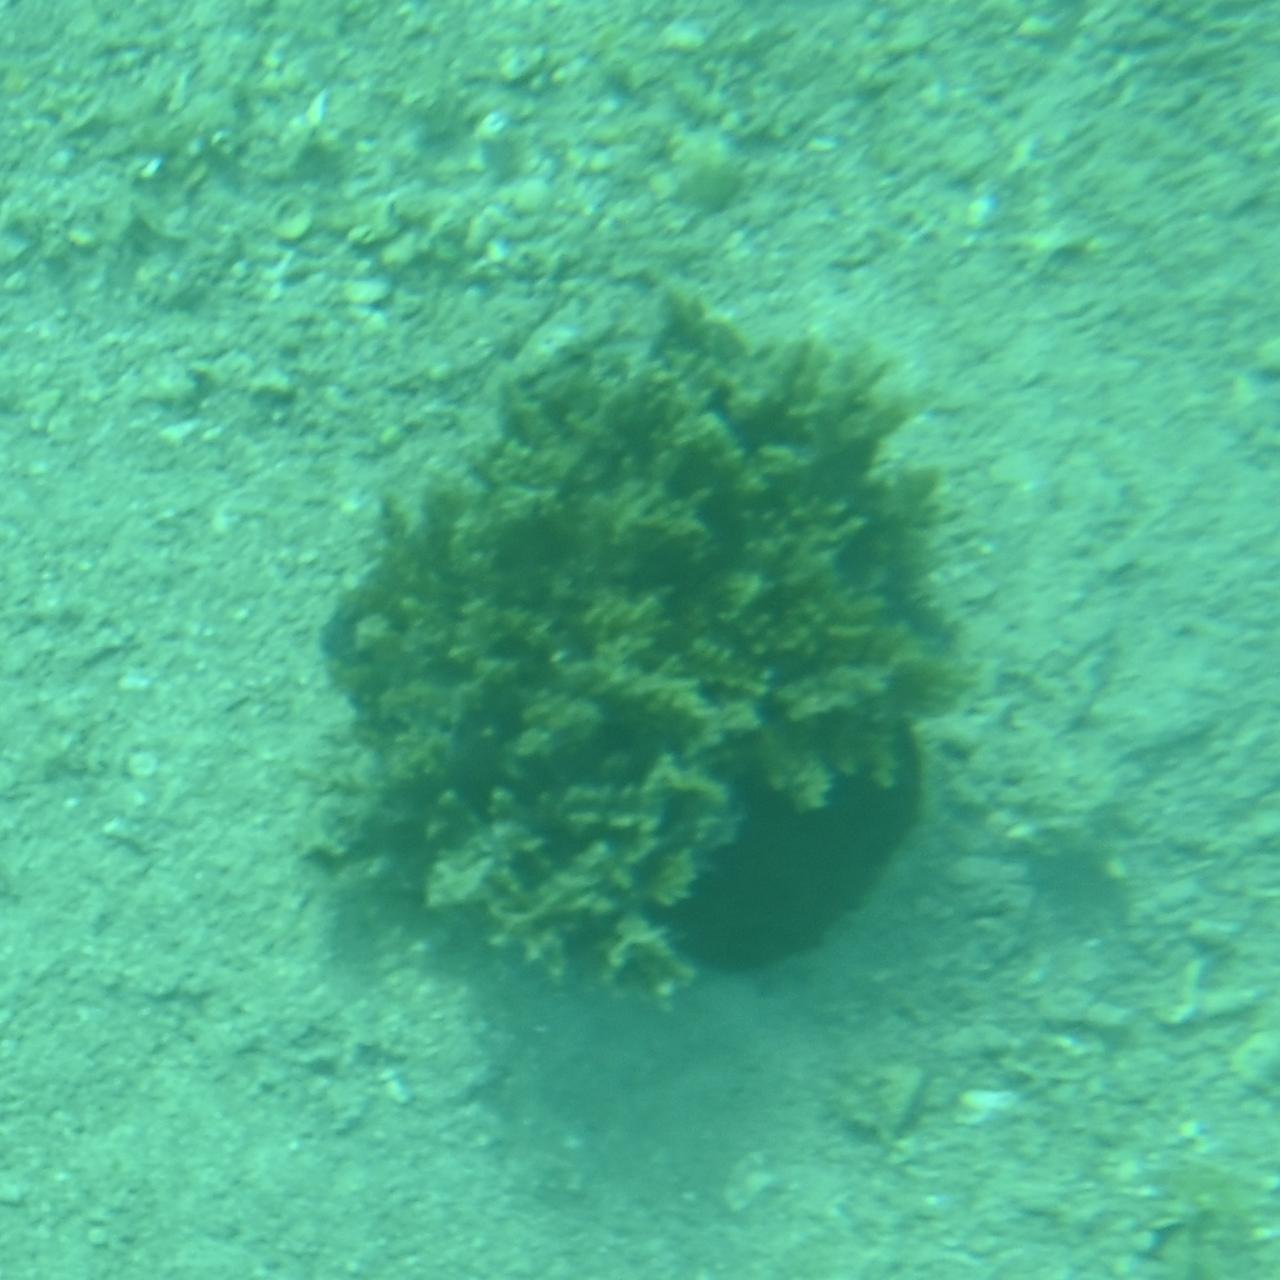Phaeophyceae -cfr Cystoseira-: (307, 272, 973, 1008)
